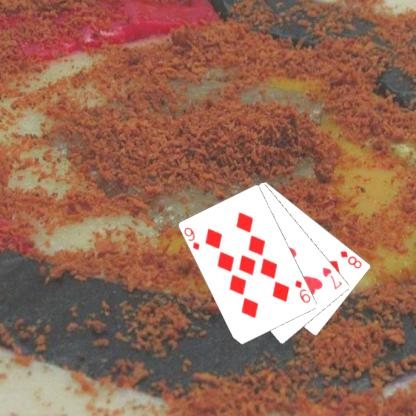7H: (319, 264, 344, 291)
8D: (337, 248, 364, 270)
9D: (181, 224, 202, 252), (292, 277, 312, 305)
